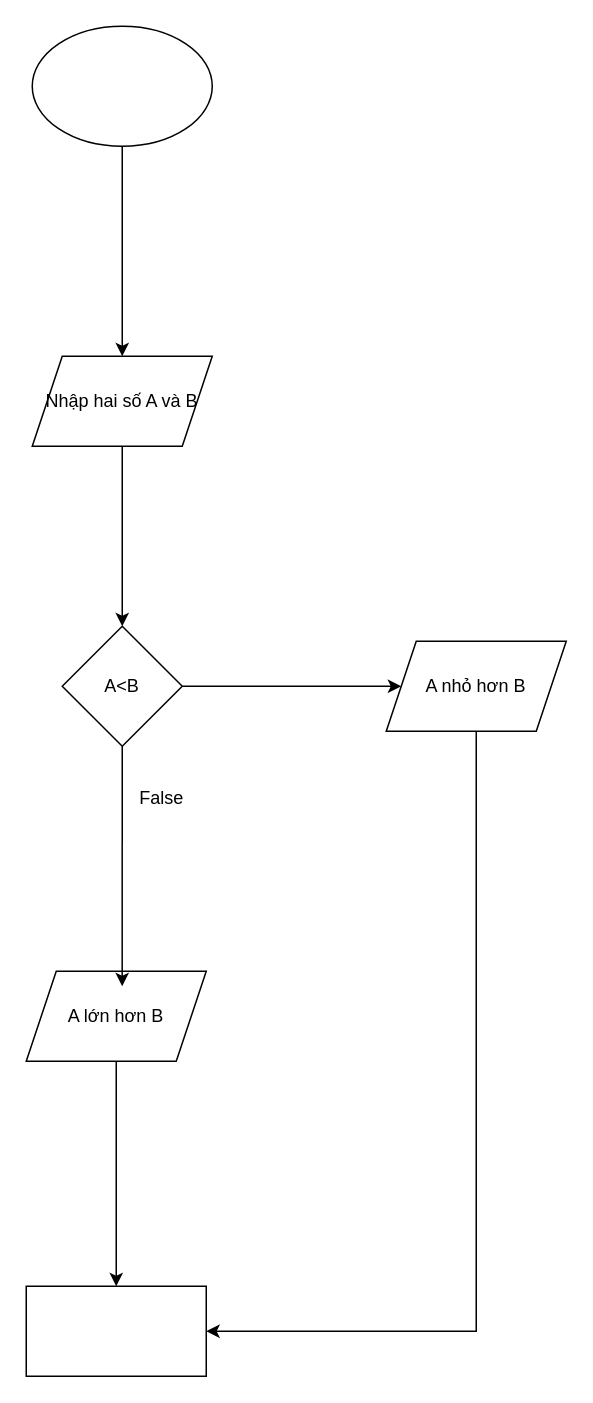
The diagram is 593 pixels wide and 1403 high, and some of its shapes have lost their labels. The centre of each missing label's shape, as x and y in pixels:
"End" goes at (x=115, y=1330).
"Start" goes at (x=121, y=85).
